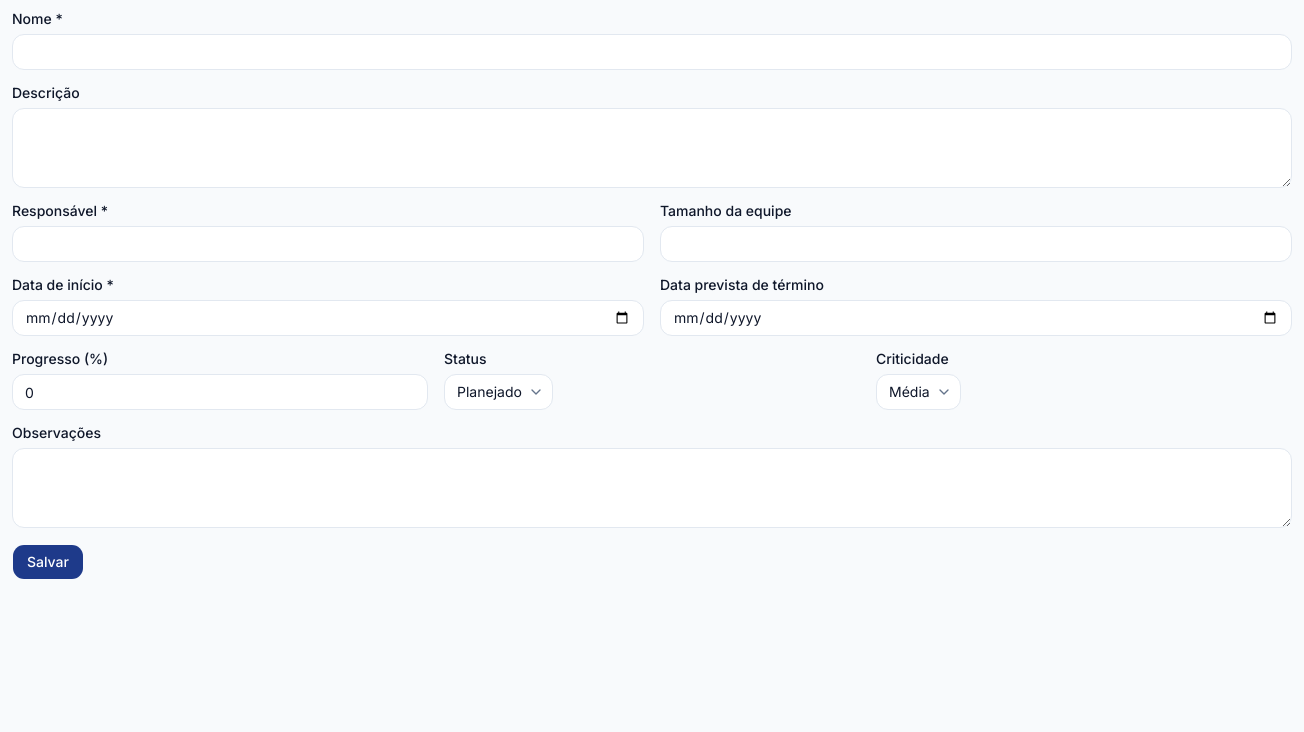
Scenario: ProjectForm › shows validation errors and blocks submit when required fields are empty
Click the button "Salvar" at (48, 562), box x1=12 y1=544 x2=84 y2=580
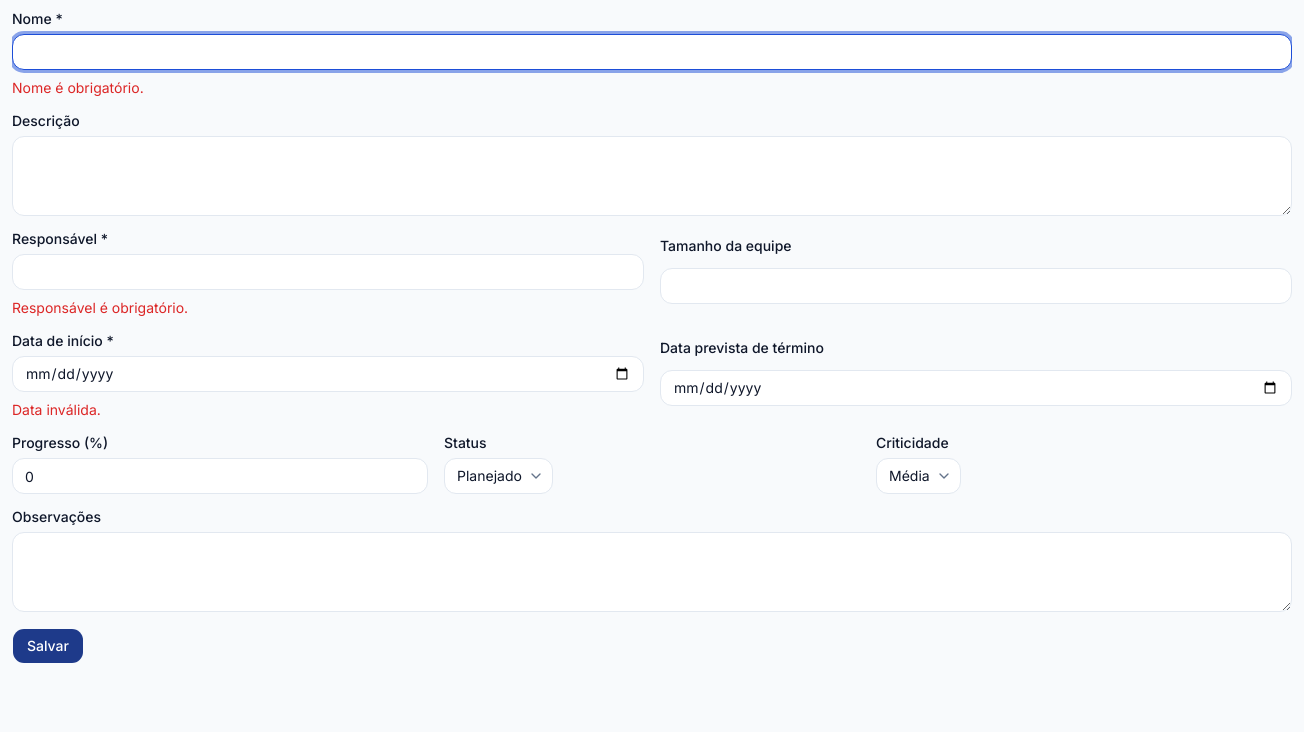
Expected: the text "Nome é obrigatório." is shown, x1=12 y1=79 x2=144 y2=96
